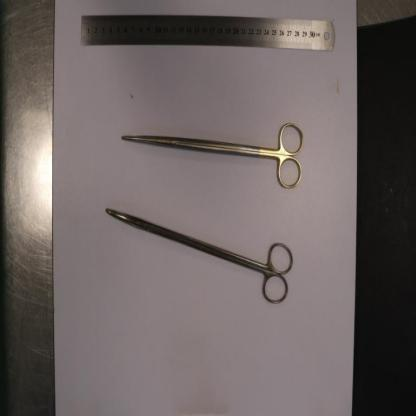7 Metzenbaum Scissors: (121, 121, 304, 193)
9 Metzenbaum Scissors: (106, 209, 292, 307)
